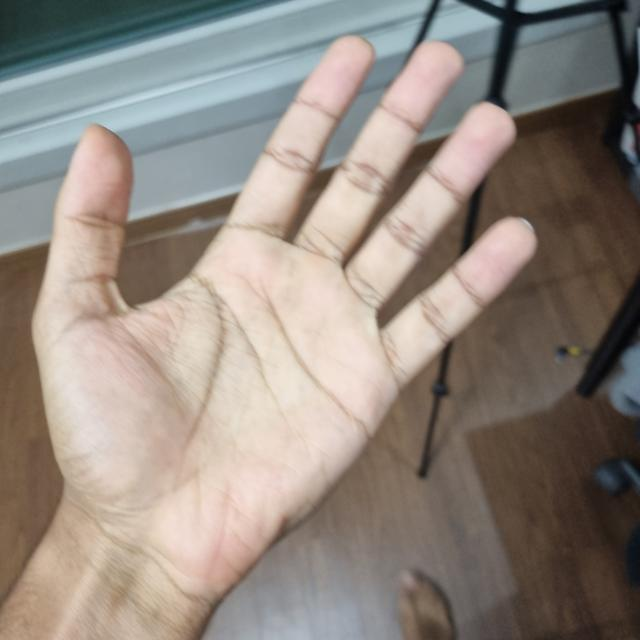Paper: (41, 36, 532, 571)
